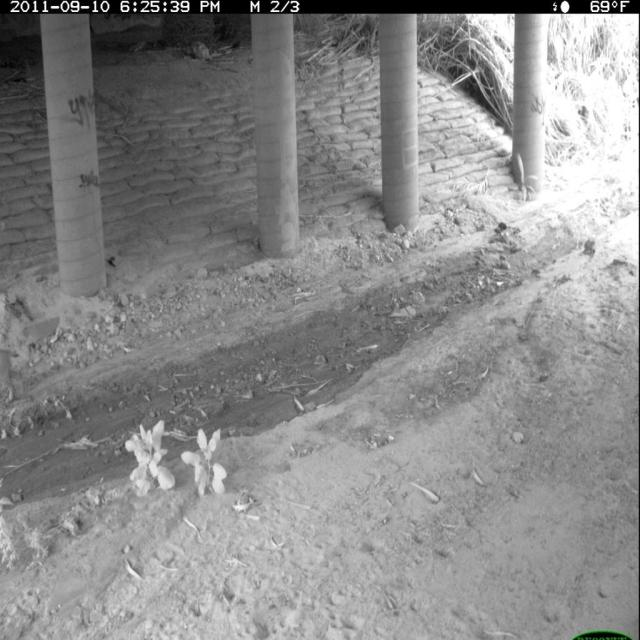bobcat: (1, 346, 19, 407)
